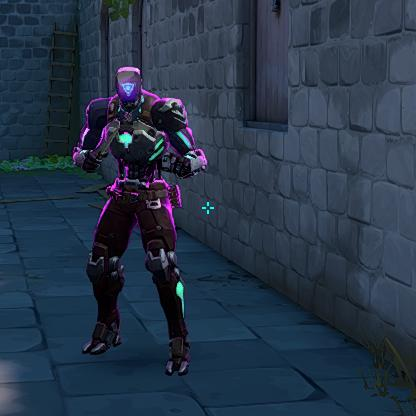enemyBody: (122, 112, 151, 181)
enemyHead: (121, 73, 137, 104)
